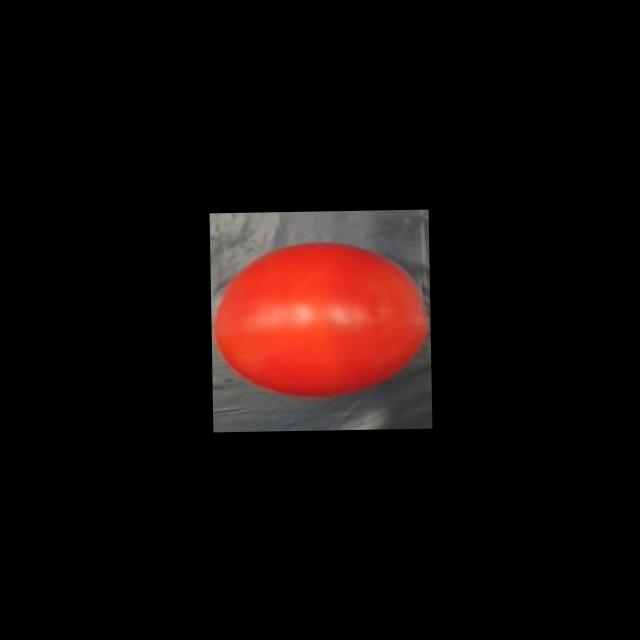tomato: (209, 237, 431, 400)
